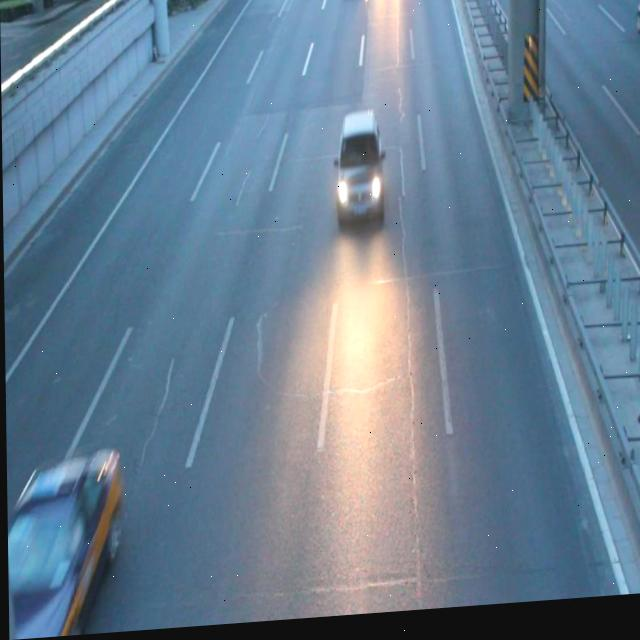car: (5, 451, 121, 640), (333, 115, 384, 228), (342, 0, 363, 0)
